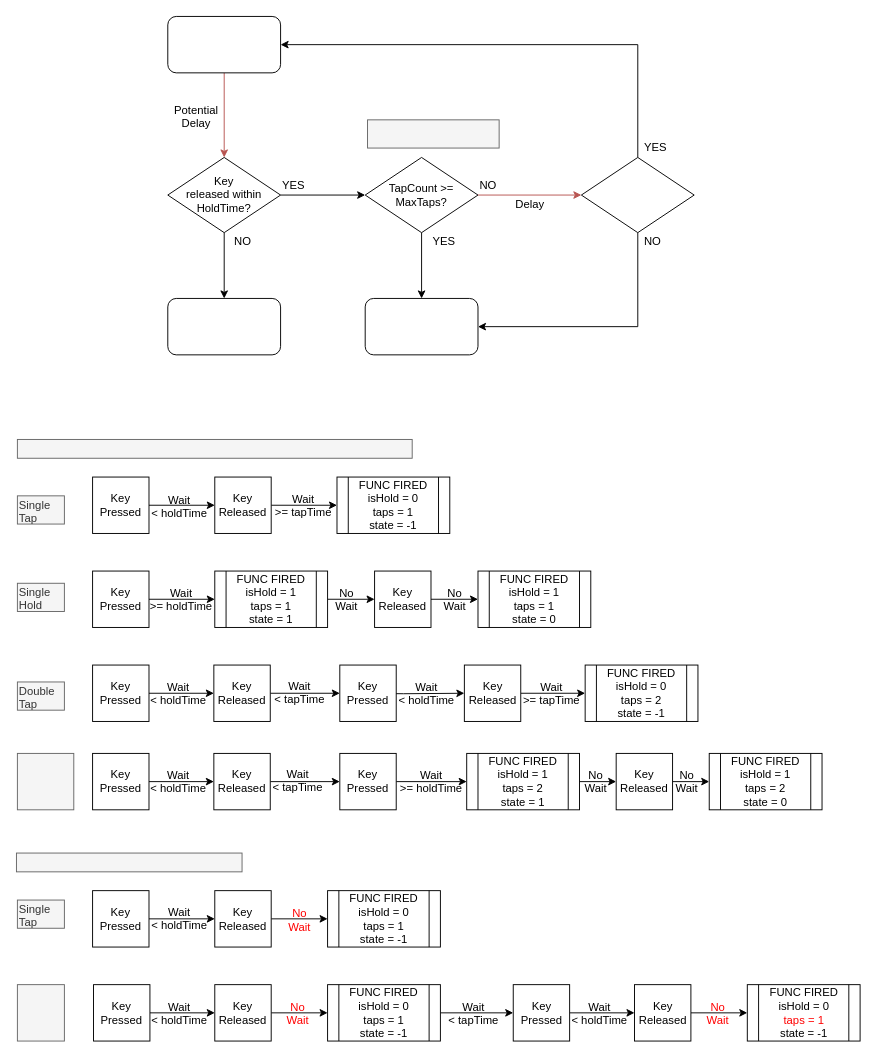
Some shapes in this 877 by 1058 pixel diagram are drawn without their labels. The shapes that lost their labels are listed below. From the top down, each one's centre as x and y in pixels, then its label:
the point at 224,44: Key Pressed. Inc TapCount by 1
the point at 433,133: Note: Use NO if maxTaps = -1
the point at 637,195: Key re-pressed within TapTime?
the point at 224,326: HOLD Fire Function isHold = 1 taps = TapCount
the point at 421,326: TAP Fire Function isHold = 0 taps = TapCount
the point at 214,448: Example key sequences and results with maxTaps=-1 (Any number of taps)
the point at 45,781: Double Tap and Hold
the point at 129,862: Example key sequences with maxTaps=1
the point at 40,1012: Multi Single Tap
